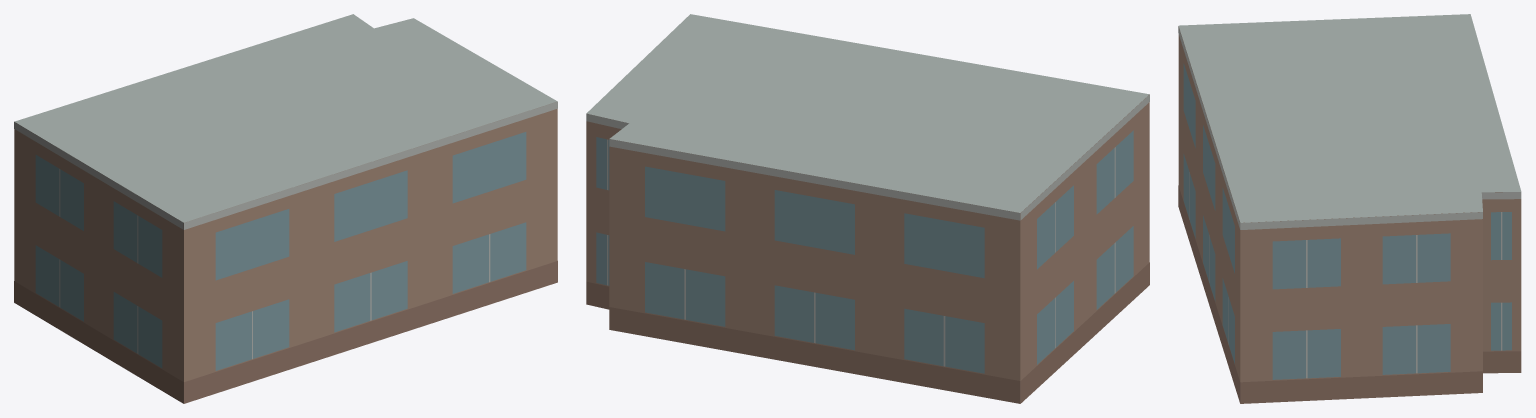
File: survey-upis-32985451.glb
3 renders of one model, left to right at view 1: azimuth 30°, elevation 25°; view 2: azimuth 150°, elevation 25°; view 3: azimuth 270°, elevation 25°, orthographic. The views are drawn at different scales.
Visible parts, largest first — view 1: survey-upis-32985451.tmp; view 2: survey-upis-32985451.tmp; view 3: survey-upis-32985451.tmp.
Part boxes in pixels (box(x1,y1,x2,y2)): survey-upis-32985451.tmp: box(14, 14, 557, 403); survey-upis-32985451.tmp: box(586, 14, 1149, 403); survey-upis-32985451.tmp: box(1178, 14, 1521, 403).
Bounding box in the file's own units: 15.11 × 6.1 × 10.49.
